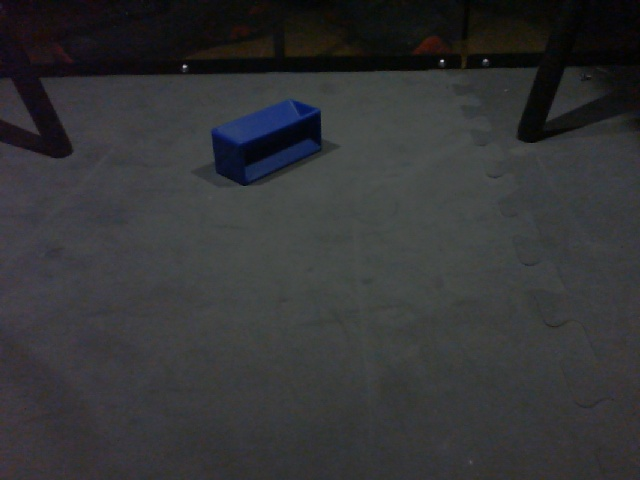BlueSample: (209, 96, 327, 188)
